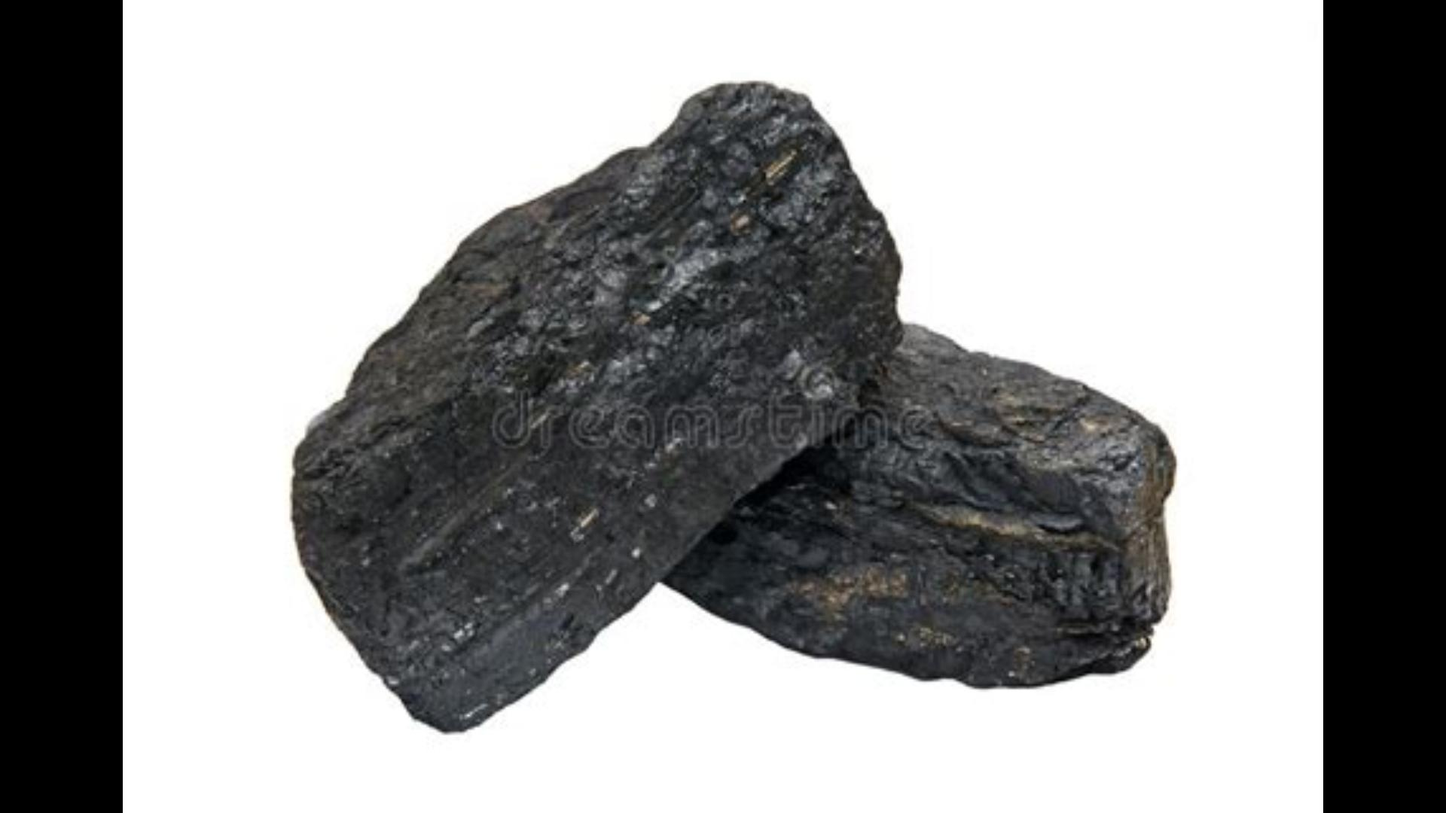rock: (293, 84, 1172, 729)
